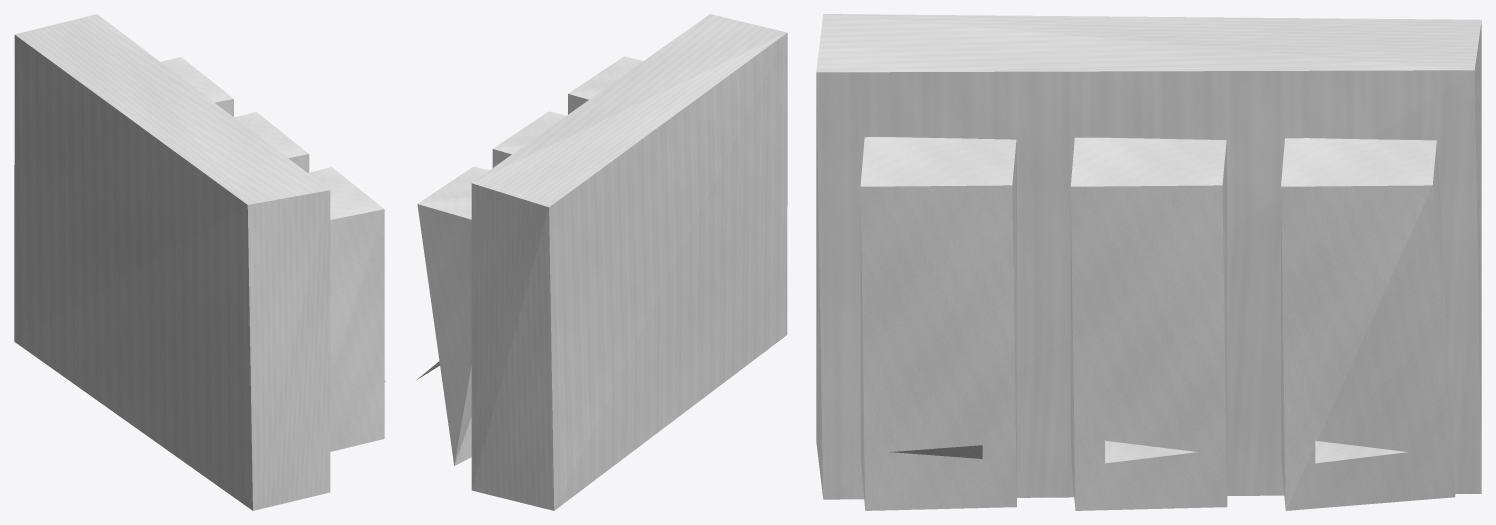
The model's file is Field_Medic_Cartridge_Rack_ShadowProxy.glb.
3 renders of one model, left to right at view 1: azimuth 30°, elevation 25°; view 2: azimuth 150°, elevation 25°; view 3: azimuth 270°, elevation 25°, orthographic. The views are drawn at different scales.
Visible parts, largest first — view 1: Field_Medic_Cartridge_Rack_ShadowProxy; view 2: Field_Medic_Cartridge_Rack_ShadowProxy; view 3: Field_Medic_Cartridge_Rack_ShadowProxy.
Part boxes in pixels (bbox=[...]): Field_Medic_Cartridge_Rack_ShadowProxy: bbox=[14, 14, 385, 510]; Field_Medic_Cartridge_Rack_ShadowProxy: bbox=[417, 14, 787, 510]; Field_Medic_Cartridge_Rack_ShadowProxy: bbox=[816, 14, 1481, 510].
Size of the model in its own units: 0.0903 by 0.16 by 0.2248.
Materials: 3 (3 with a texture image).
